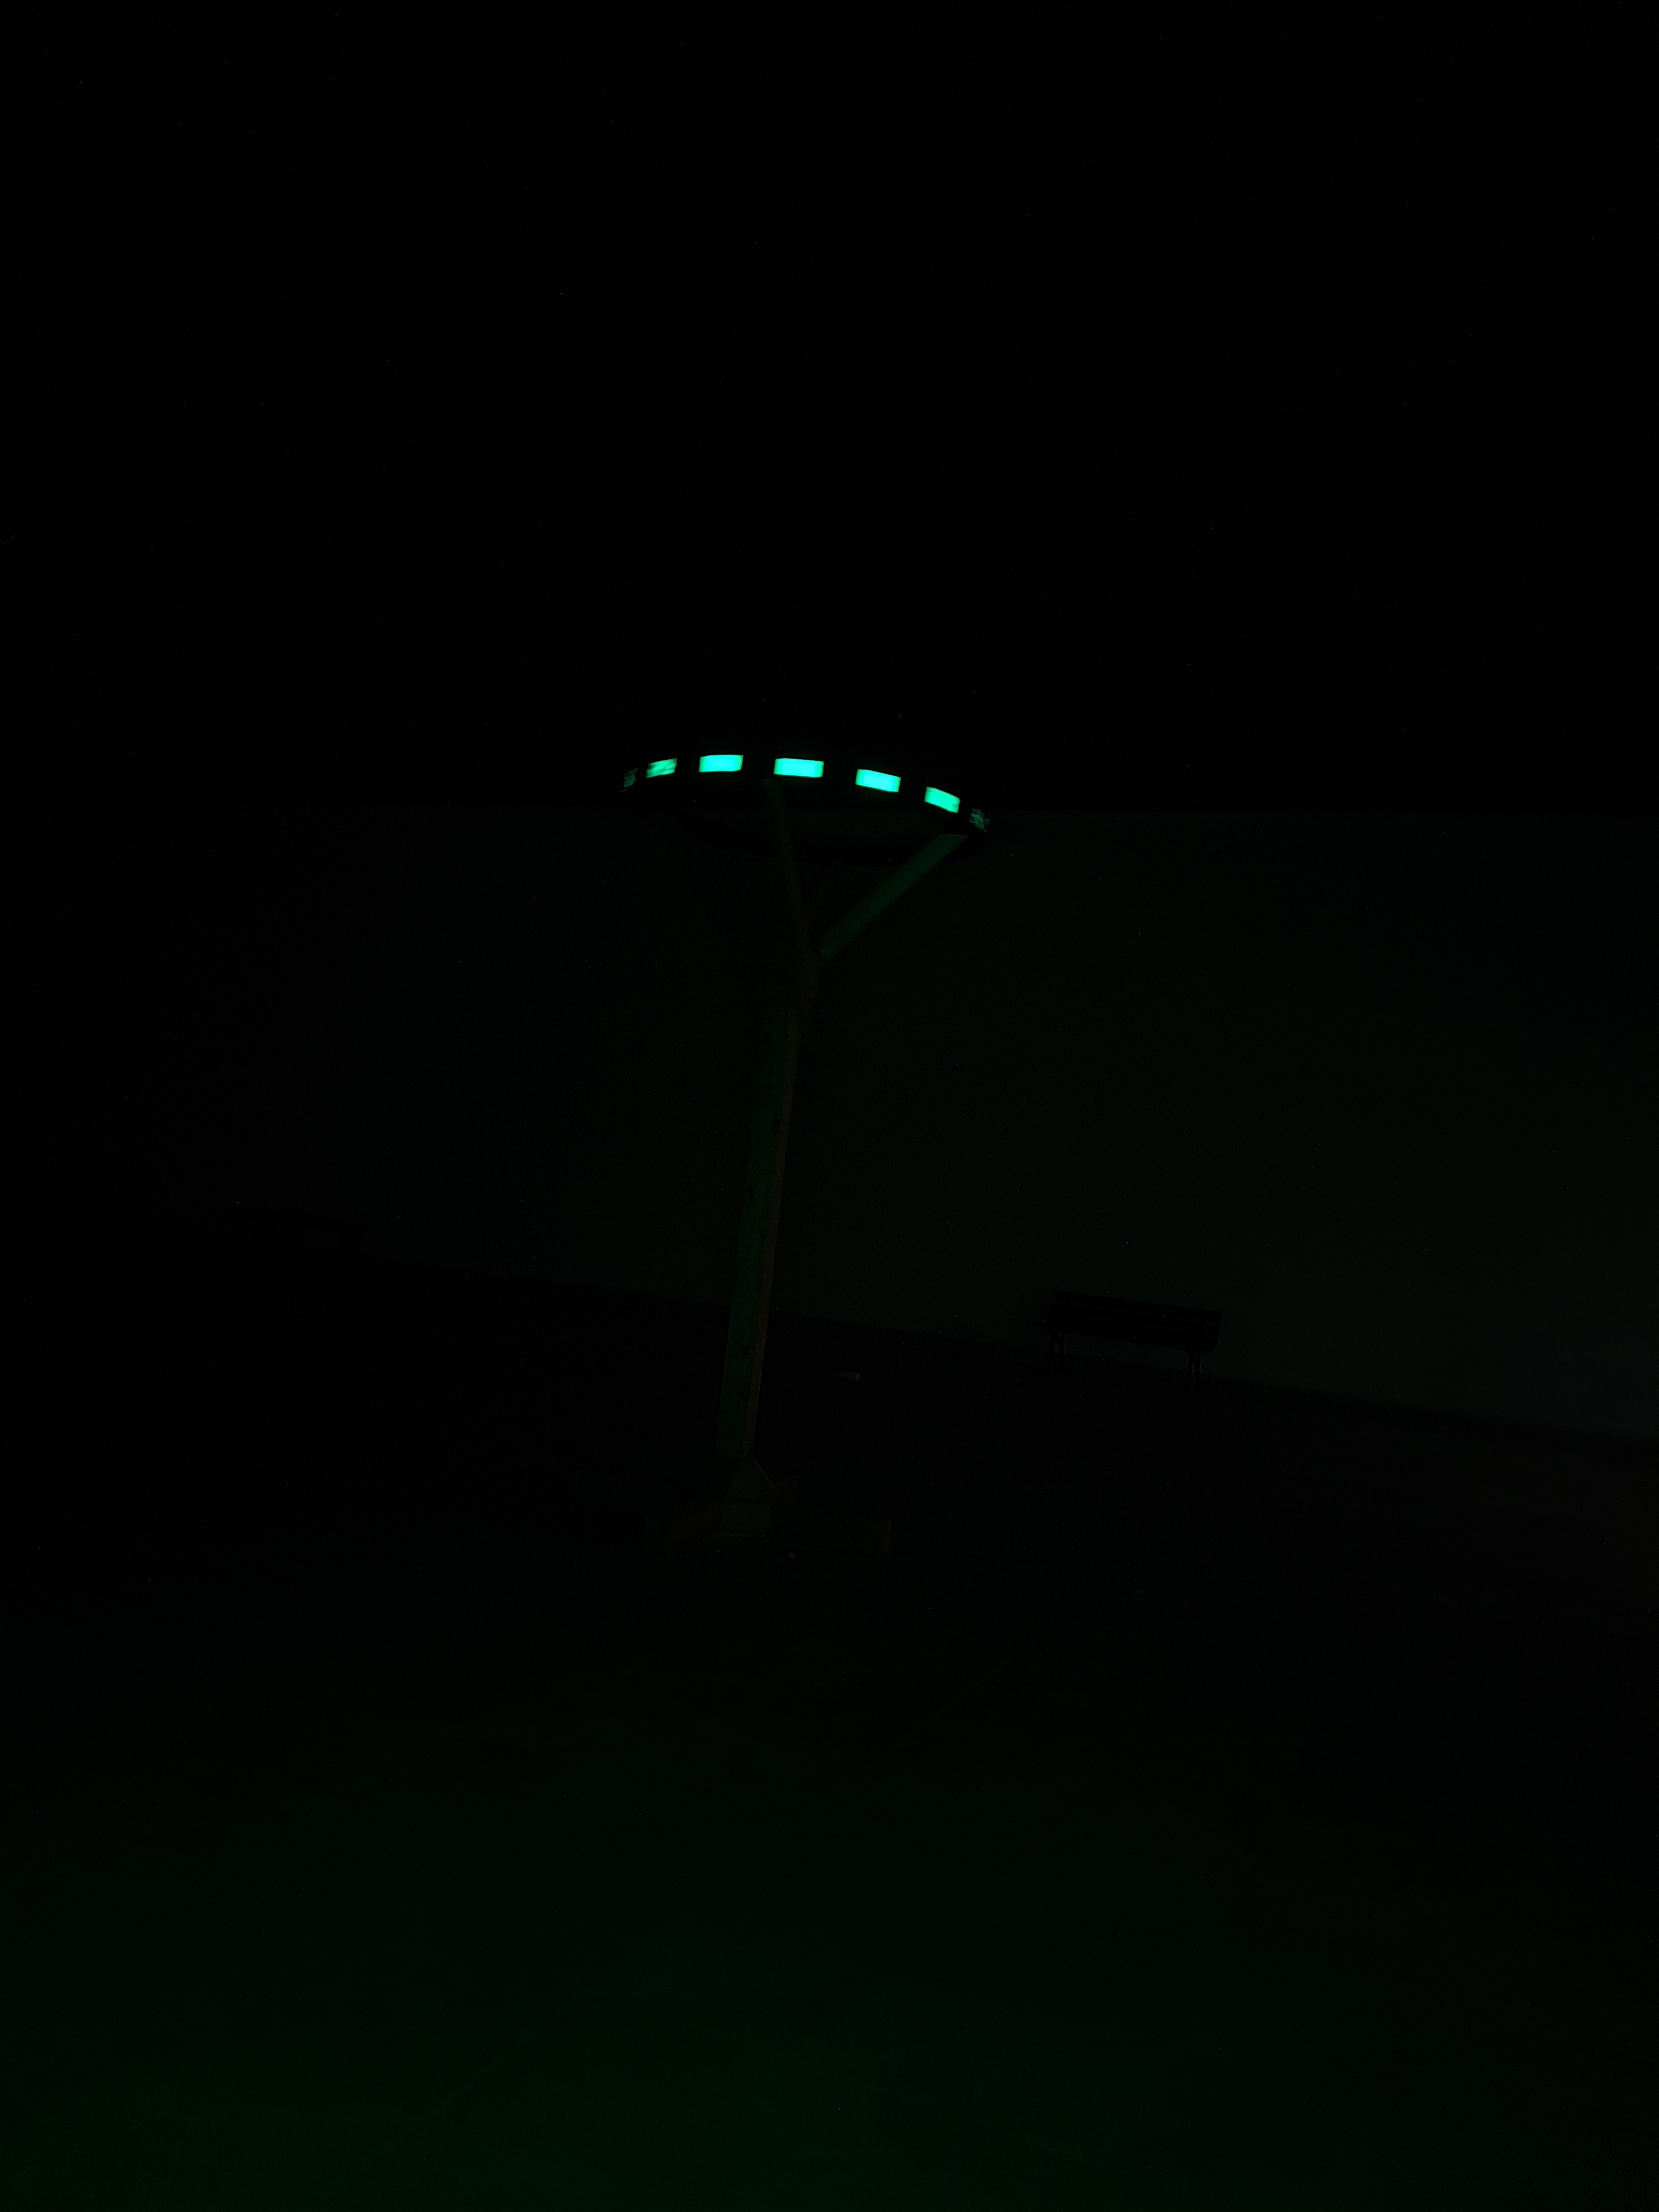hoop: (620, 747, 993, 834)
